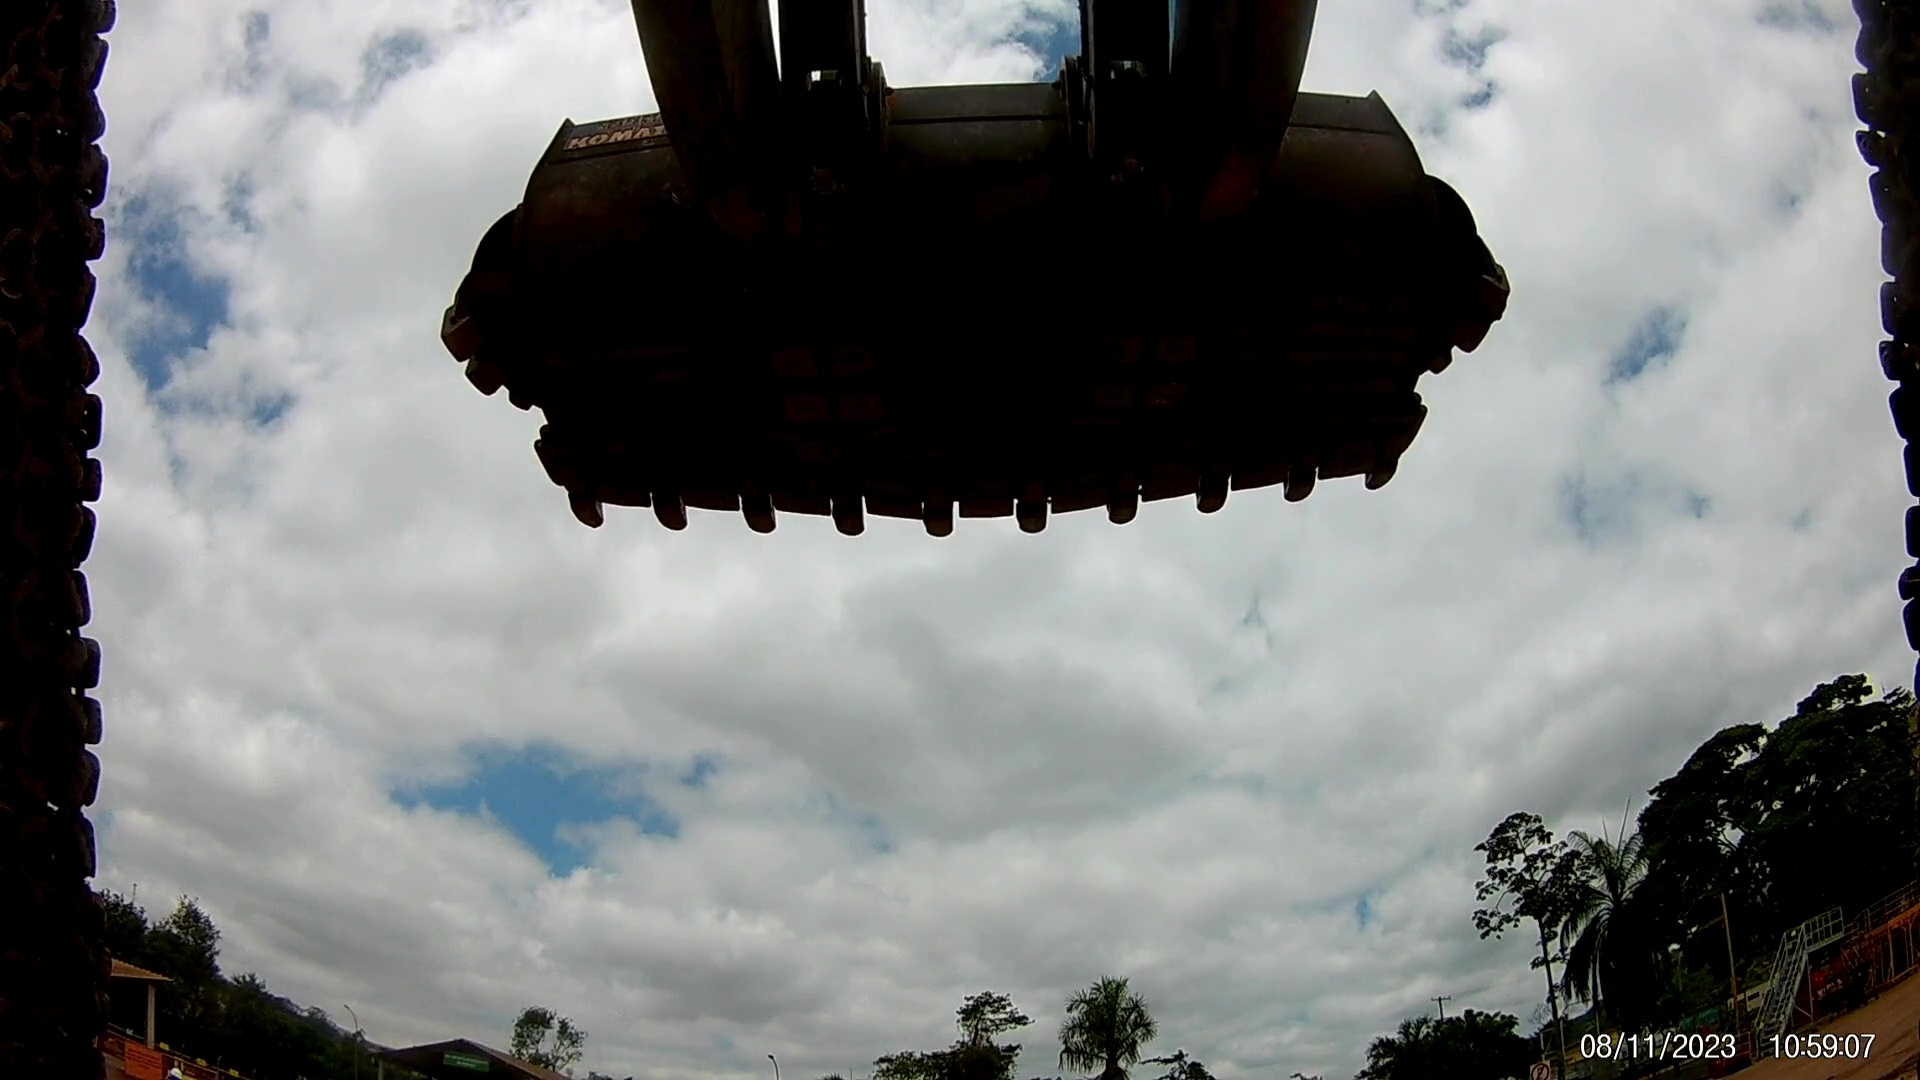FPS: (547, 467, 625, 549), (906, 481, 973, 553), (1192, 431, 1240, 529), (735, 473, 789, 555), (820, 476, 876, 555), (1275, 440, 1332, 516), (1089, 469, 1154, 531), (1358, 431, 1408, 502), (1023, 472, 1063, 562), (651, 491, 711, 550)
